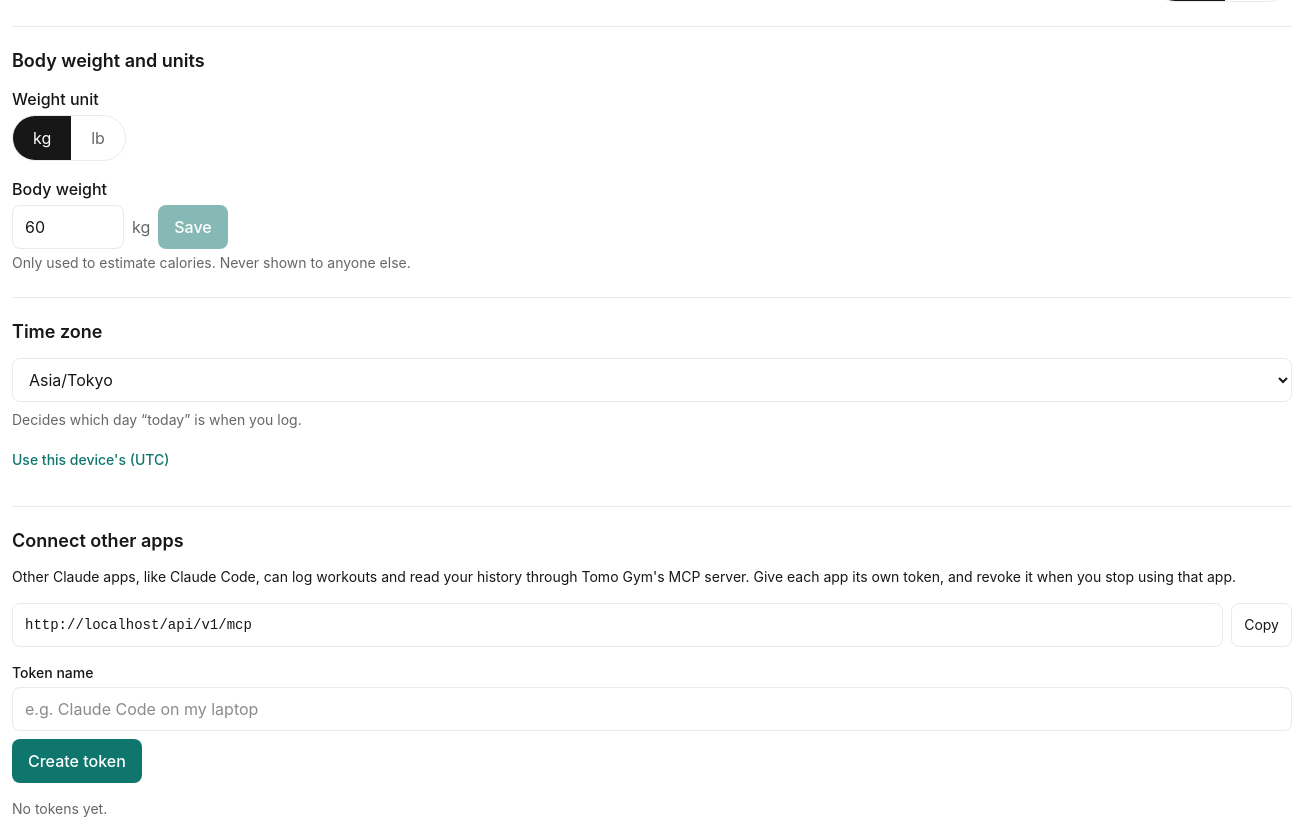
Profile › access tokens › needs a name
(page scrolled)
Step 1. Click the button "Create token" → (77, 761), box [12,739,142,783]
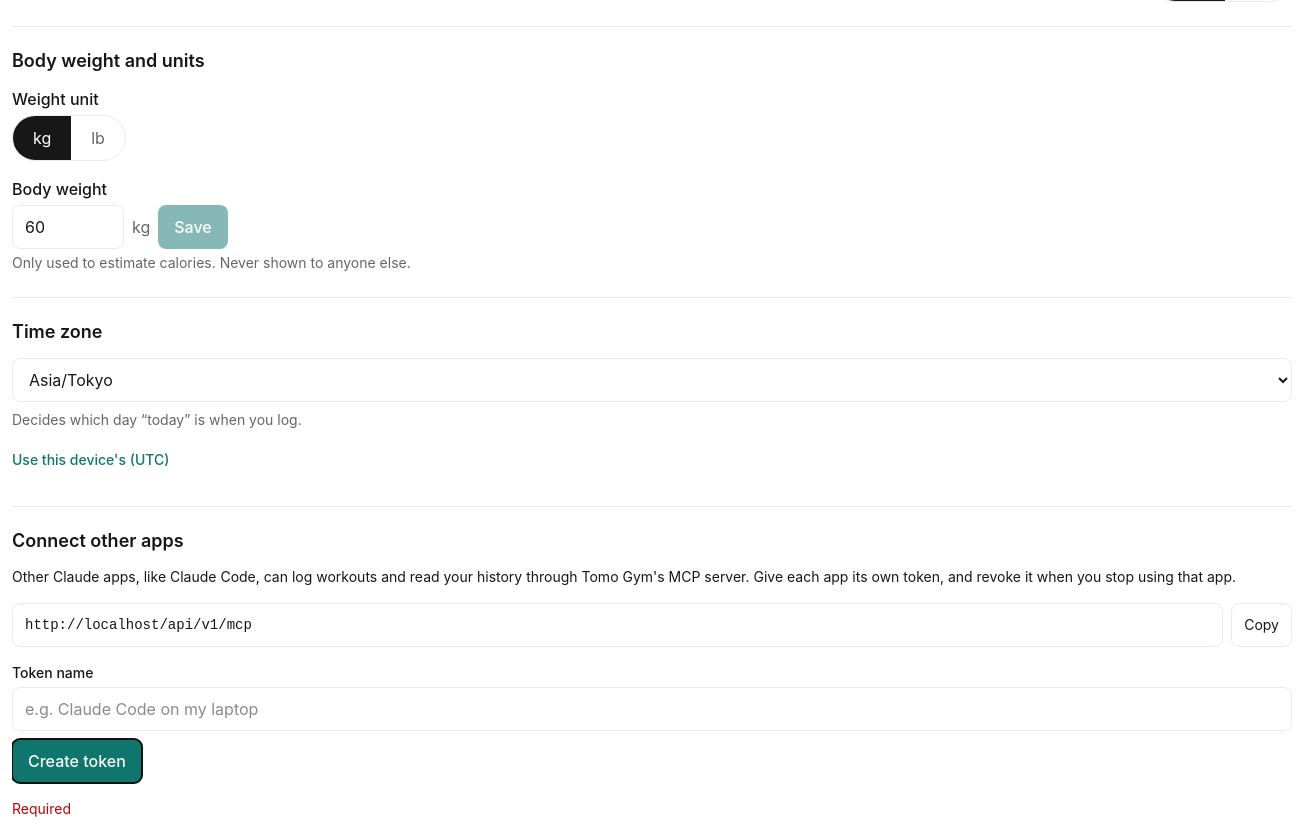
Result: the message reads "Required" at [12,800,71,817]
